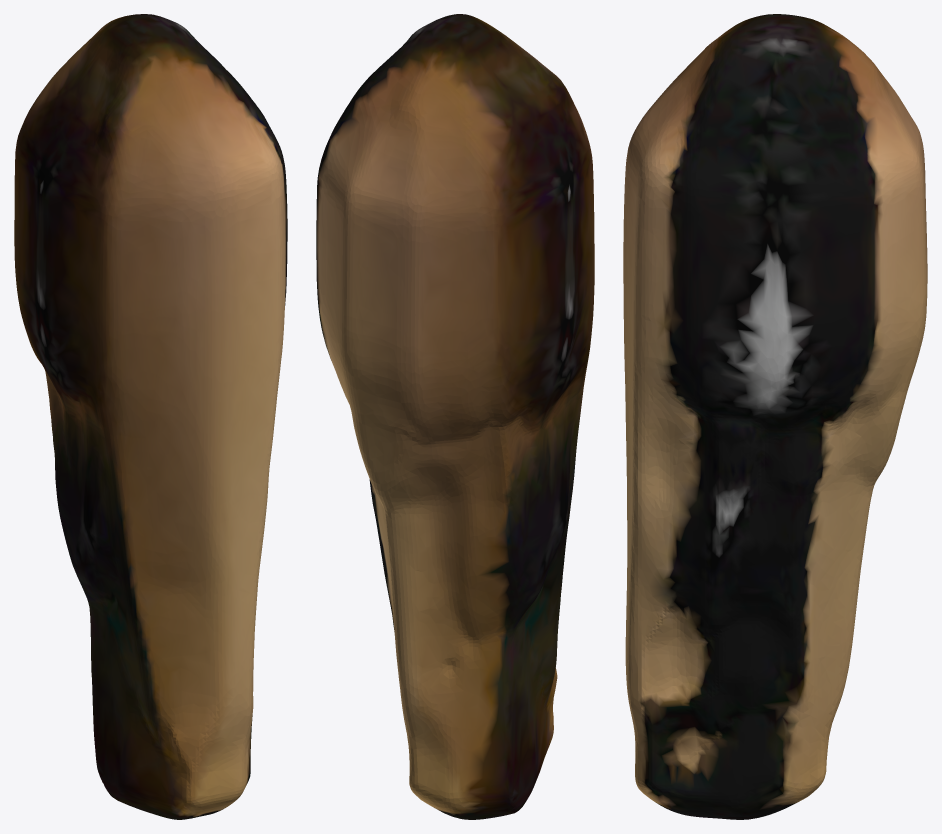
File: club.glb
The picture shows the model from 3 angles, left to right: view 1: azimuth 30°, elevation 25°; view 2: azimuth 150°, elevation 25°; view 3: azimuth 270°, elevation 25°; orthographic projection. The views are drawn at different scales.
Visible parts, largest first — view 1: geometry_0; view 2: geometry_0; view 3: geometry_0.
Part boxes in pixels (x1,y1,x2,y2): geometry_0: (14, 14, 287, 819); geometry_0: (316, 14, 594, 819); geometry_0: (623, 14, 927, 819).
Size of the model in its own units: 0.2751 by 0.9375 by 0.3243.
